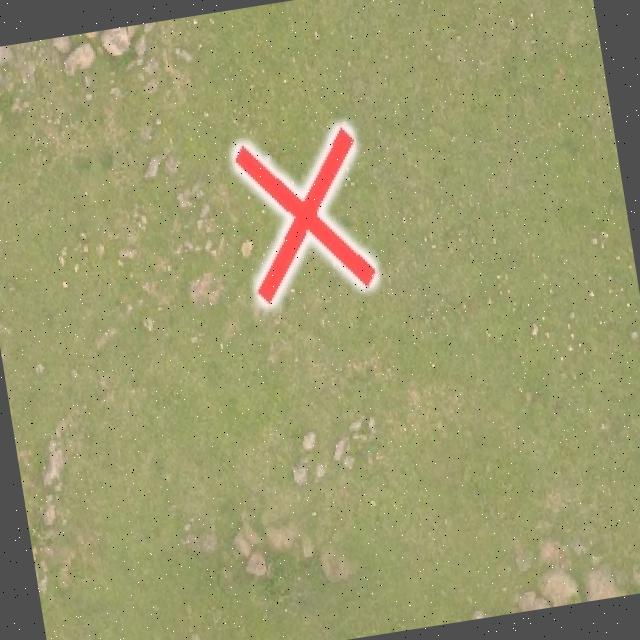x_marker: (232, 125, 376, 304)
